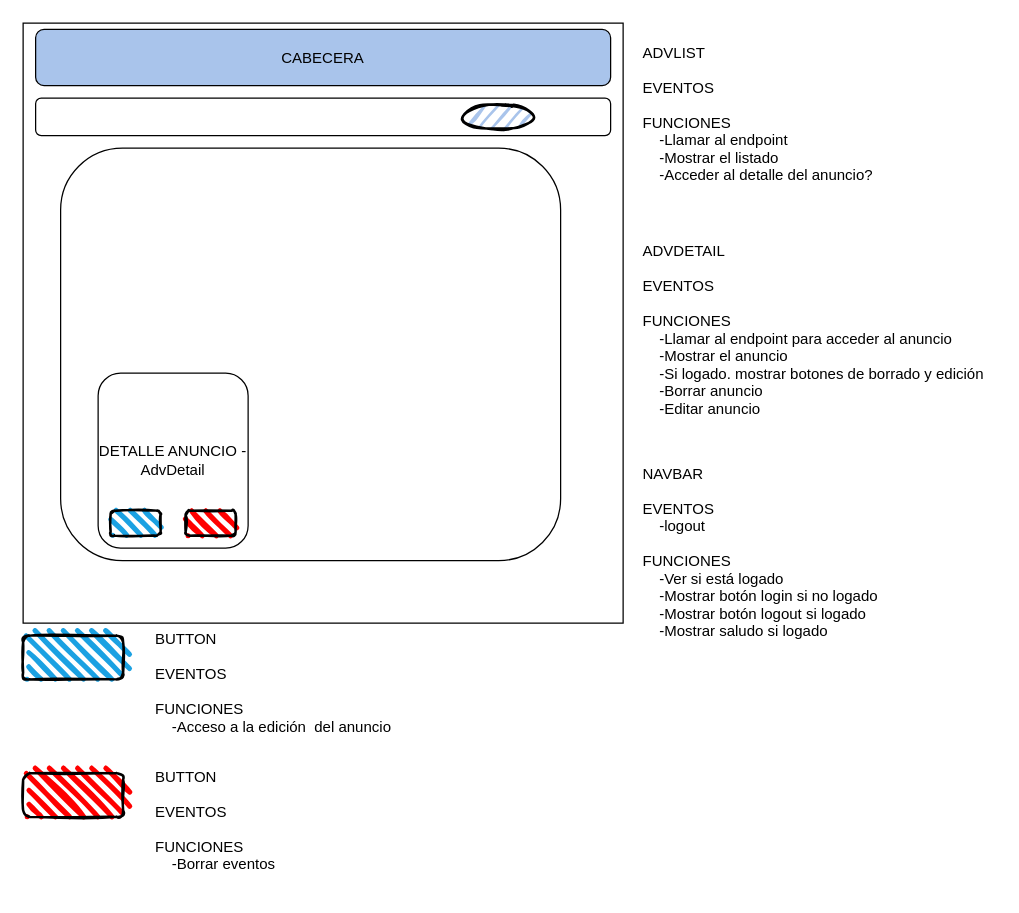
The diagram is 1019 pixels wide and 913 high, and some of its shapes have lost their labels. Each missing label, with the box of its shape:
LISTADO - AdvList: (59, 147, 561, 561)
NAVBAR - Navbar: (34, 97, 611, 136)
